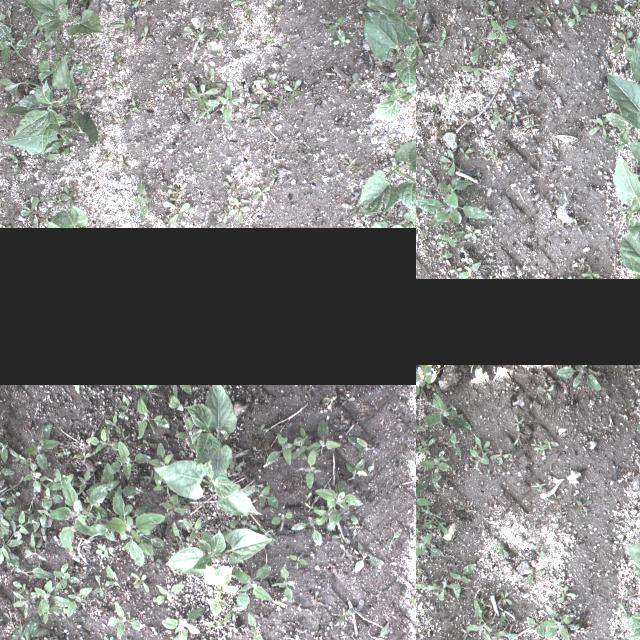crop: (0, 61, 78, 149), (154, 461, 262, 515), (603, 28, 640, 185), (184, 385, 236, 479), (164, 528, 270, 574), (3, 111, 101, 155), (357, 141, 416, 214), (362, 10, 416, 85), (342, 0, 416, 51), (611, 155, 640, 261), (14, 0, 100, 35), (367, 81, 416, 121), (203, 565, 237, 617), (369, 200, 416, 227), (616, 229, 640, 278), (624, 574, 640, 640), (42, 206, 88, 228)
weed: (50, 479, 118, 549), (416, 168, 492, 230), (104, 485, 162, 565), (315, 480, 361, 528), (423, 391, 472, 432), (0, 511, 38, 563), (480, 4, 518, 52), (22, 422, 58, 471), (235, 565, 271, 613), (539, 602, 581, 640), (160, 607, 204, 640), (204, 85, 244, 121), (102, 463, 142, 499), (136, 397, 170, 437), (418, 448, 452, 488), (108, 602, 142, 640), (565, 0, 607, 30), (464, 600, 495, 640), (34, 580, 68, 616), (116, 442, 150, 478), (458, 46, 490, 84), (6, 552, 52, 578), (306, 419, 338, 455), (556, 255, 602, 279), (556, 366, 600, 390), (0, 22, 26, 62), (269, 564, 295, 604), (184, 26, 222, 52), (354, 542, 384, 574), (262, 434, 292, 466), (148, 444, 172, 484), (290, 517, 324, 545), (448, 564, 476, 598), (296, 452, 322, 488), (130, 178, 152, 220), (13, 617, 50, 640), (528, 2, 556, 32), (484, 107, 522, 129), (178, 516, 210, 542), (434, 144, 458, 178), (11, 582, 35, 616), (416, 365, 436, 405), (0, 493, 19, 535), (419, 506, 447, 534), (0, 79, 36, 98), (66, 587, 90, 615), (86, 428, 114, 452), (564, 214, 586, 243), (321, 15, 345, 41), (34, 53, 58, 79), (54, 563, 78, 589), (153, 585, 184, 605), (445, 262, 483, 278), (416, 32, 435, 64), (484, 44, 504, 74), (132, 384, 162, 404), (613, 0, 640, 22), (476, 146, 509, 164), (416, 534, 443, 556), (338, 202, 374, 218), (175, 417, 193, 449), (198, 66, 224, 88), (496, 612, 518, 638), (586, 112, 606, 140), (460, 222, 488, 242), (22, 464, 42, 492), (24, 532, 44, 560), (168, 203, 194, 224), (19, 196, 37, 226), (345, 458, 375, 476), (252, 486, 278, 506), (472, 436, 490, 464), (168, 386, 190, 408), (282, 79, 302, 103), (249, 93, 269, 117), (158, 70, 182, 90), (347, 435, 371, 455), (49, 470, 73, 490), (228, 198, 246, 224), (436, 230, 462, 248), (0, 440, 22, 461), (160, 494, 183, 514), (503, 65, 522, 89), (190, 85, 218, 101), (247, 612, 263, 640), (112, 14, 134, 34), (94, 540, 116, 560), (468, 448, 488, 470), (540, 190, 558, 214), (521, 108, 539, 132), (442, 432, 460, 456), (430, 91, 450, 112), (70, 58, 90, 78), (475, 0, 495, 20), (559, 189, 579, 209), (41, 488, 61, 508), (526, 616, 546, 636), (314, 508, 332, 530), (434, 578, 452, 600), (34, 36, 62, 50), (47, 144, 71, 160), (269, 510, 293, 526), (292, 428, 312, 447), (170, 521, 183, 549), (457, 144, 477, 162), (130, 573, 148, 593), (525, 566, 545, 584), (416, 577, 440, 592), (286, 552, 308, 568), (104, 565, 120, 587), (416, 480, 429, 507), (369, 622, 388, 640), (7, 621, 25, 640), (436, 24, 449, 50), (491, 448, 512, 464), (233, 0, 253, 16), (60, 186, 76, 206), (261, 525, 277, 545), (556, 586, 576, 602), (103, 413, 119, 432), (416, 416, 426, 445), (343, 71, 359, 89), (137, 26, 153, 44), (20, 25, 36, 43), (385, 528, 401, 546), (42, 606, 58, 624), (118, 395, 130, 419), (222, 518, 238, 536), (77, 470, 89, 494), (418, 438, 434, 456), (110, 52, 124, 72), (546, 146, 560, 166), (348, 512, 358, 540), (34, 527, 48, 547), (7, 154, 20, 174), (116, 154, 132, 170), (537, 384, 553, 400), (209, 24, 227, 38), (196, 105, 214, 119), (112, 110, 130, 124), (574, 500, 592, 514), (91, 574, 102, 596), (530, 34, 544, 51), (402, 590, 416, 607), (512, 433, 524, 452), (340, 158, 356, 172), (126, 97, 140, 113), (438, 250, 454, 264), (70, 550, 84, 566), (338, 607, 352, 623), (153, 482, 169, 496), (492, 544, 508, 558), (0, 461, 13, 478), (100, 151, 112, 169), (44, 196, 62, 208), (240, 518, 258, 530), (512, 414, 524, 432), (530, 438, 548, 450), (252, 187, 268, 200), (256, 74, 276, 84), (498, 591, 512, 605), (222, 182, 238, 194), (469, 170, 485, 182), (254, 422, 270, 434), (224, 606, 236, 622), (36, 508, 48, 524), (5, 491, 18, 505), (0, 4, 12, 19), (206, 620, 224, 630), (621, 584, 633, 598), (531, 543, 543, 557), (275, 94, 285, 110), (168, 187, 184, 197), (330, 534, 350, 542), (118, 428, 128, 444), (74, 452, 90, 462), (542, 440, 558, 450), (61, 48, 74, 60), (114, 80, 125, 94), (229, 462, 241, 474), (586, 556, 598, 568), (460, 628, 472, 640), (281, 38, 295, 48), (331, 37, 351, 44), (163, 64, 174, 76), (322, 394, 338, 402), (618, 603, 626, 619), (244, 118, 253, 132), (130, 0, 150, 6), (200, 503, 210, 515), (294, 448, 304, 460), (548, 493, 560, 503), (270, 3, 284, 11), (304, 491, 312, 505), (221, 205, 227, 223), (410, 124, 416, 141), (184, 93, 194, 103), (162, 202, 174, 210), (72, 384, 80, 396), (532, 482, 544, 490), (340, 394, 352, 401), (56, 450, 70, 456), (18, 458, 32, 464), (265, 37, 275, 45), (187, 82, 197, 90), (274, 600, 284, 608), (32, 492, 40, 502), (140, 439, 152, 445), (416, 443, 422, 455), (393, 79, 401, 87), (270, 170, 276, 180), (271, 14, 277, 24), (112, 463, 118, 473), (246, 12, 250, 26), (169, 198, 183, 202), (312, 590, 316, 604), (101, 635, 112, 640), (82, 0, 90, 6), (22, 384, 30, 390), (322, 625, 334, 629), (108, 72, 112, 82), (198, 100, 202, 108), (293, 635, 298, 640), (4, 224, 10, 228)
